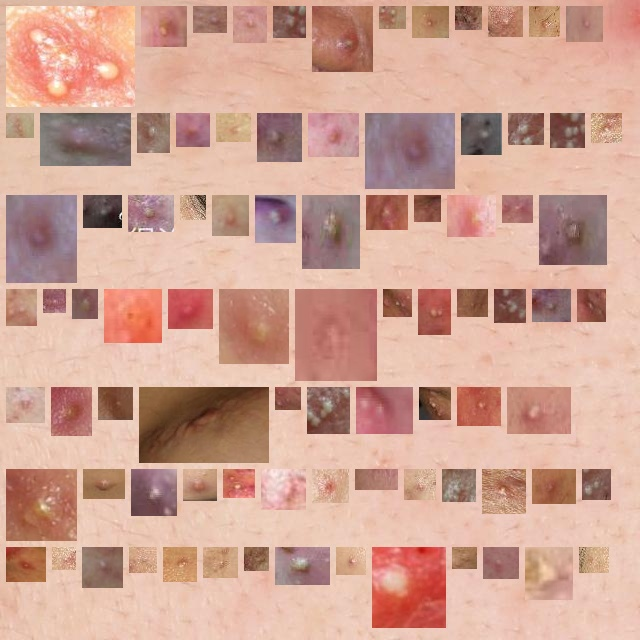pustule: (14, 14, 127, 99), (147, 395, 261, 455), (303, 297, 369, 373), (373, 121, 447, 181), (14, 203, 69, 275), (380, 555, 438, 620), (227, 297, 281, 356), (14, 477, 69, 533), (547, 203, 599, 257), (48, 121, 123, 158), (310, 203, 352, 261), (320, 14, 365, 64), (112, 297, 154, 335), (515, 395, 563, 426), (364, 395, 405, 426), (532, 555, 565, 592), (316, 121, 351, 149), (265, 121, 294, 154), (139, 477, 169, 508), (455, 203, 488, 229), (283, 555, 322, 577), (315, 395, 342, 426), (263, 203, 289, 235), (59, 395, 84, 428), (490, 477, 518, 506), (149, 14, 179, 39), (469, 121, 497, 147), (269, 477, 298, 502), (176, 297, 205, 321), (465, 395, 493, 418), (136, 203, 166, 224), (90, 555, 115, 580), (540, 477, 568, 496), (220, 203, 241, 228), (426, 297, 443, 327), (374, 203, 400, 222), (14, 395, 37, 415), (14, 555, 38, 574), (574, 14, 595, 34), (145, 121, 162, 145), (91, 203, 114, 220), (540, 297, 563, 314), (241, 14, 259, 35), (320, 477, 341, 495), (91, 477, 117, 491), (558, 121, 577, 140), (171, 555, 189, 574), (420, 14, 441, 30), (184, 121, 202, 139), (106, 395, 125, 412), (516, 121, 536, 137), (491, 555, 511, 571), (14, 297, 29, 318), (450, 477, 468, 494), (502, 297, 518, 315), (191, 477, 209, 493), (496, 14, 515, 29), (211, 555, 230, 570), (281, 14, 298, 30), (427, 395, 443, 412), (224, 121, 243, 134), (412, 477, 428, 492), (537, 14, 552, 29), (585, 297, 598, 314), (599, 121, 614, 135), (231, 477, 247, 490), (201, 14, 219, 25), (590, 477, 603, 492), (510, 203, 525, 215), (465, 297, 480, 309), (344, 555, 358, 567), (391, 297, 404, 309), (80, 297, 90, 311), (587, 555, 601, 565), (422, 203, 433, 214), (137, 555, 149, 565), (14, 121, 26, 130), (188, 203, 198, 212), (463, 14, 474, 22), (387, 14, 398, 21), (252, 555, 261, 563), (283, 395, 293, 402), (51, 297, 58, 305), (60, 555, 68, 562), (460, 555, 469, 561)
